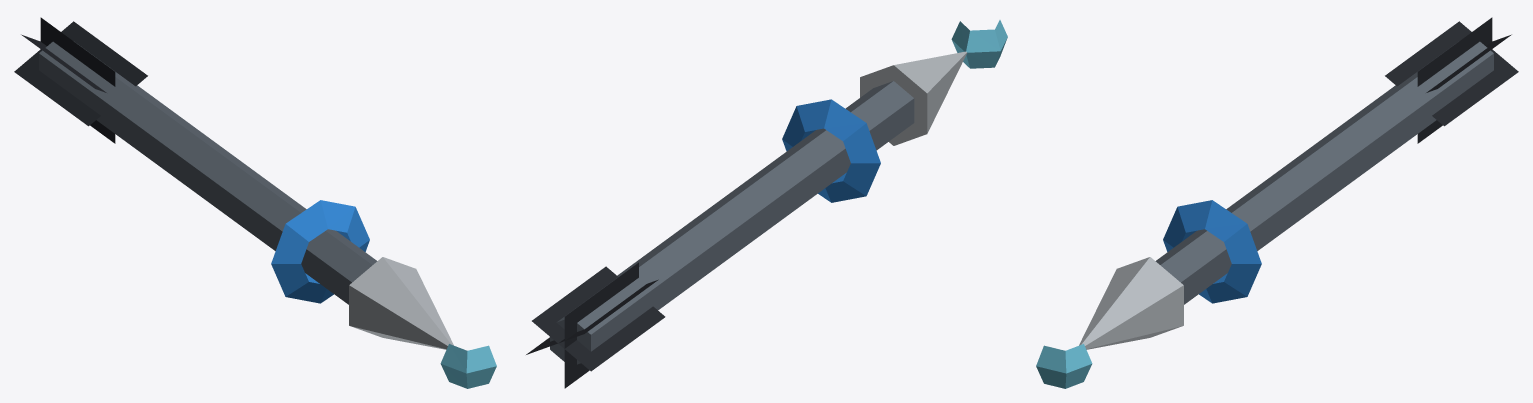
Rendered from bolt-electrifying.lod.glb.
3 renders of one model, left to right at view 1: azimuth 30°, elevation 25°; view 2: azimuth 150°, elevation 25°; view 3: azimuth 330°, elevation 25°, orthographic.
Visible parts, largest first — view 1: m; view 2: m; view 3: m.
Part boxes in pixels (x1,y1,x2,y2): m: (14,17,496,388); m: (526,20,1007,388); m: (1036,17,1518,388).
Bounding box in the file's own units: 0.021 × 0.021 × 0.16.
